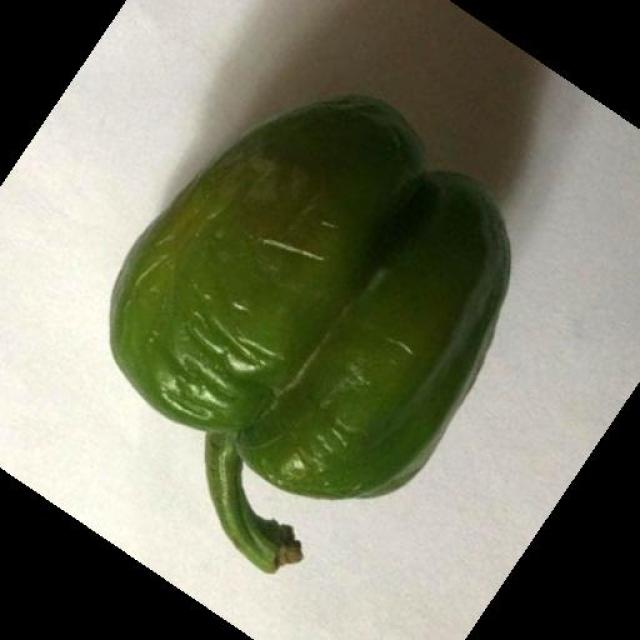Stale_Capsicum: (140, 93, 473, 513)
